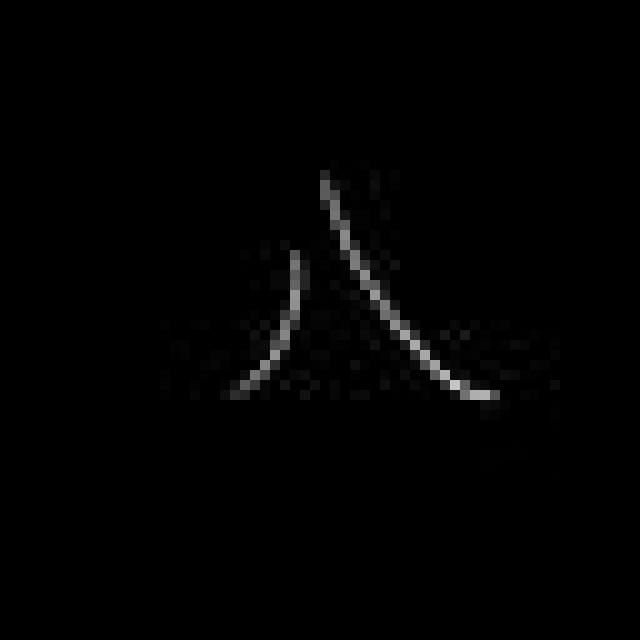8 -eight-: (208, 157, 515, 420)
